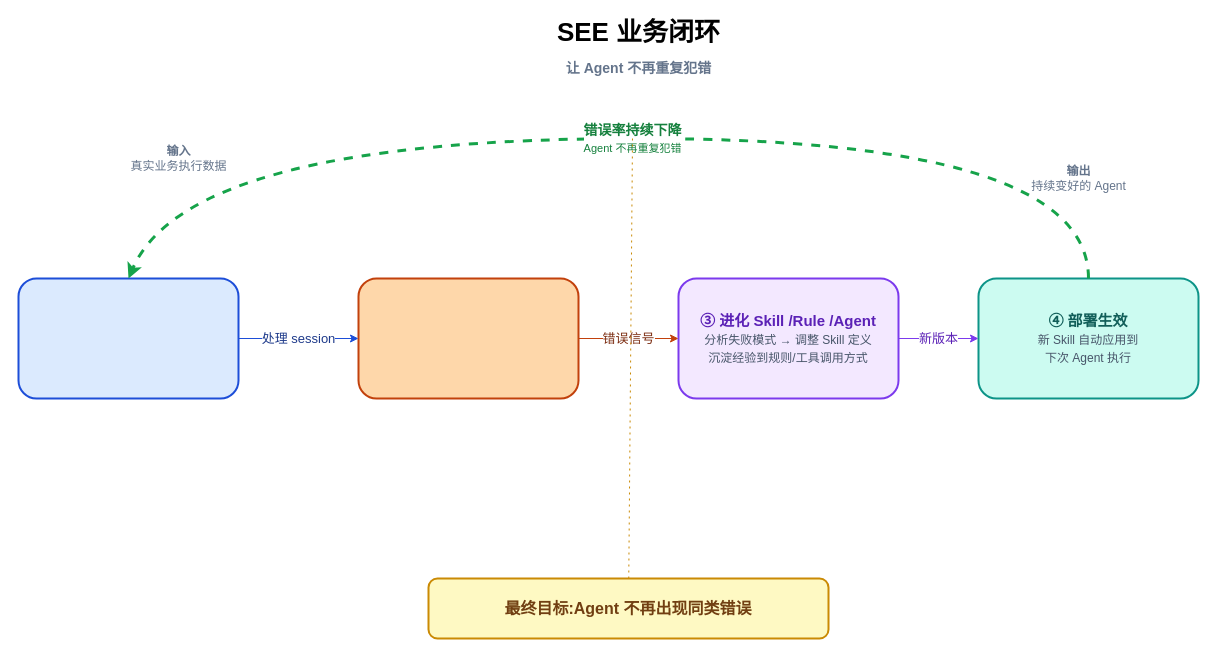
Some shapes in this 1216 by 656 pixel diagram are drawn without their labels. The box of each missing label's shape, as (x1, y1, x2, y2) in pixels:
① Agent 执行 调用 Skill 完成业务任务 产生一批 session: (17, 277, 239, 399)
② 抓取工具调用失败 识别失败 / 异常 作为进化素材: (357, 277, 579, 399)
